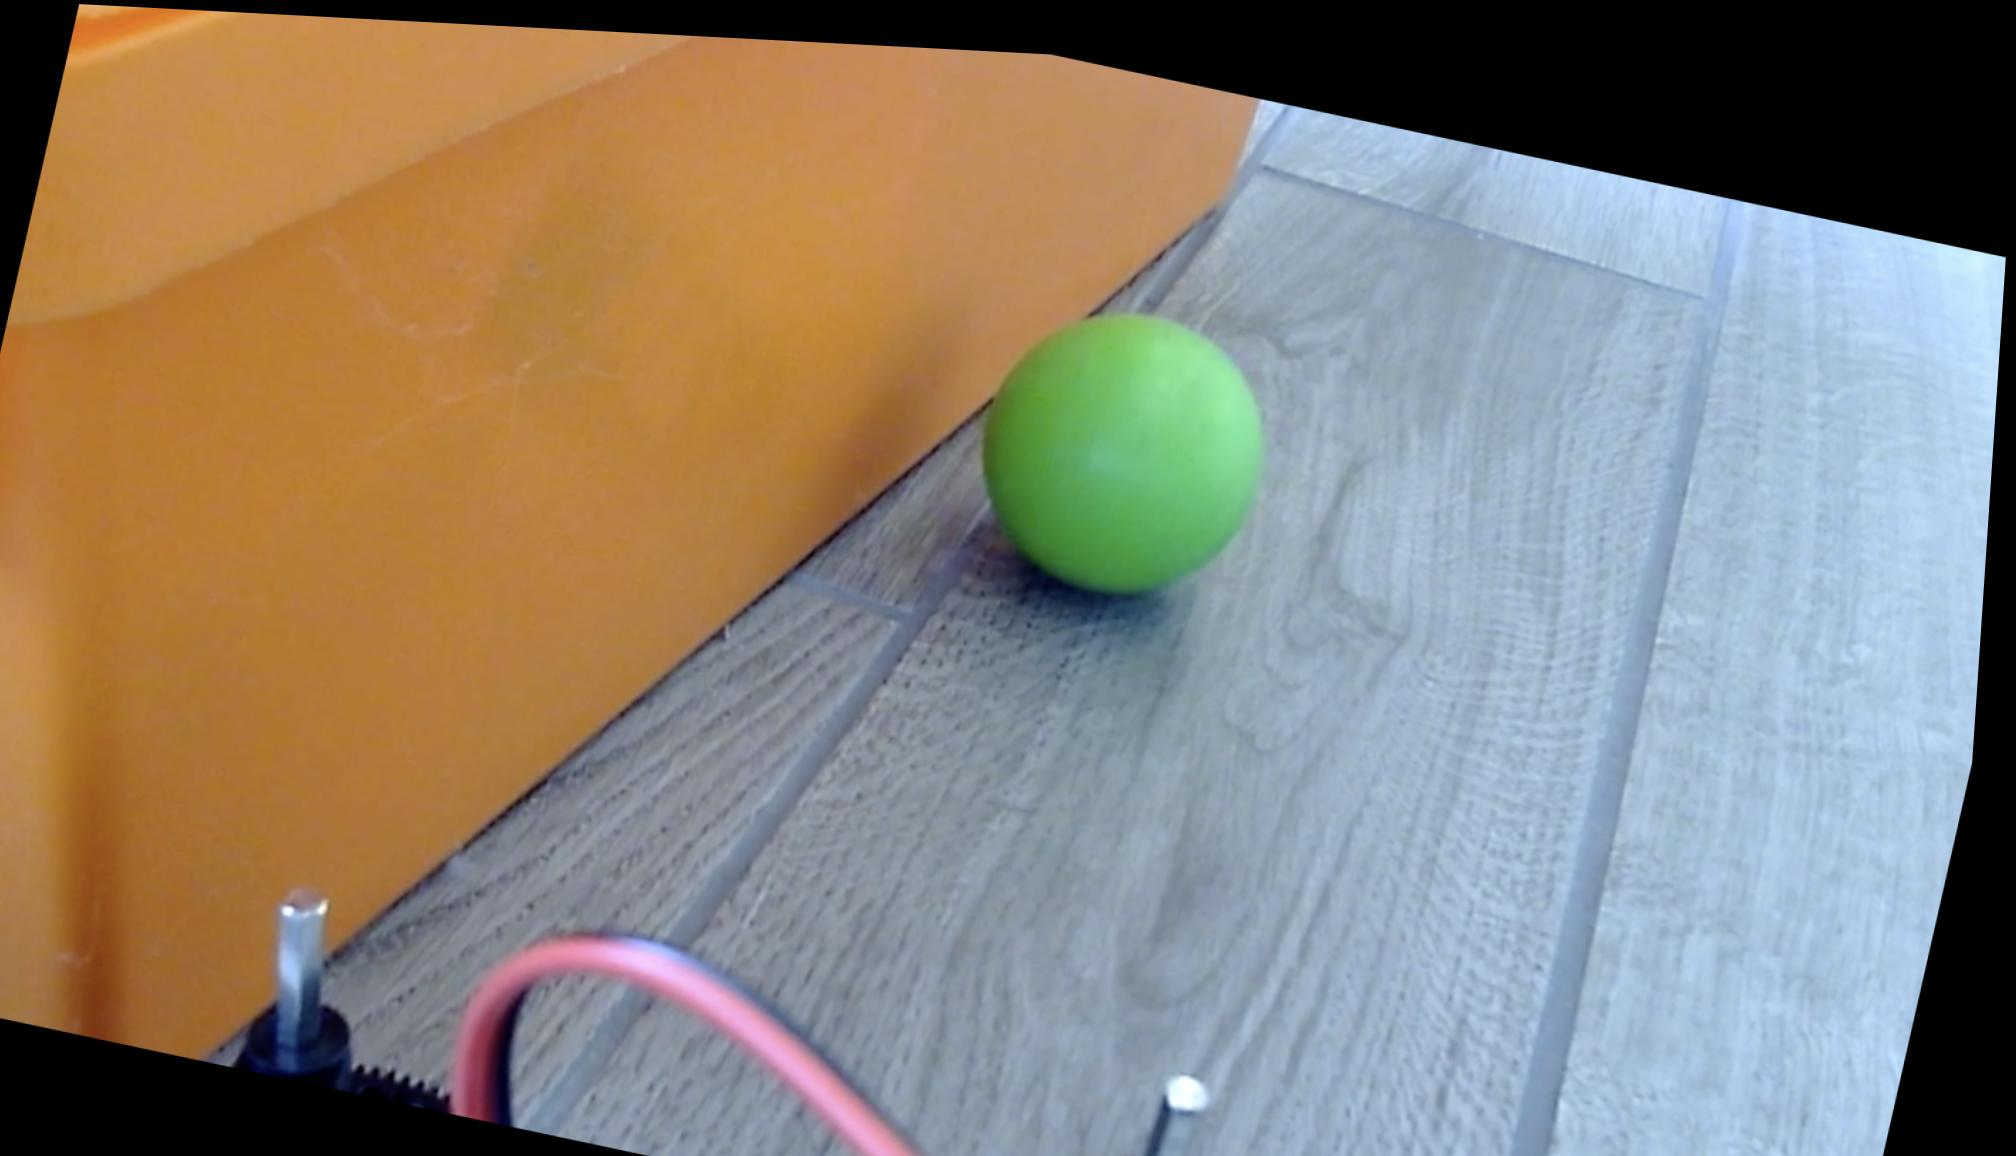greenball: (955, 269, 1299, 611)
